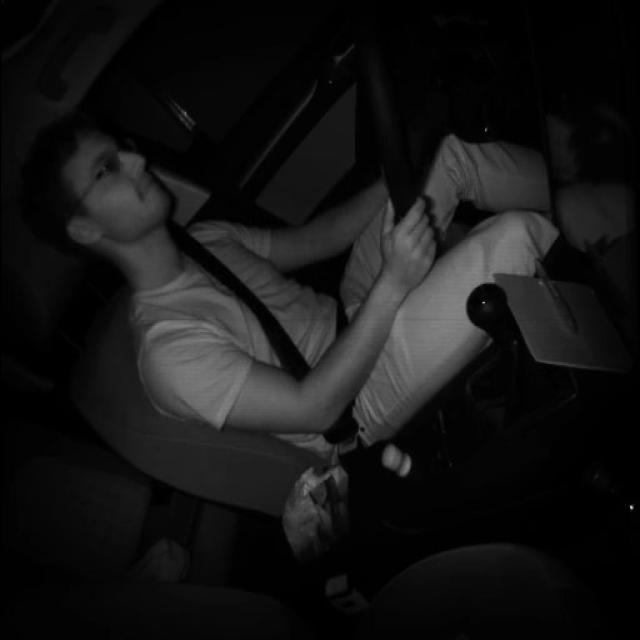pen: (532, 254, 582, 338)
